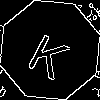K: (25, 25, 76, 81)
